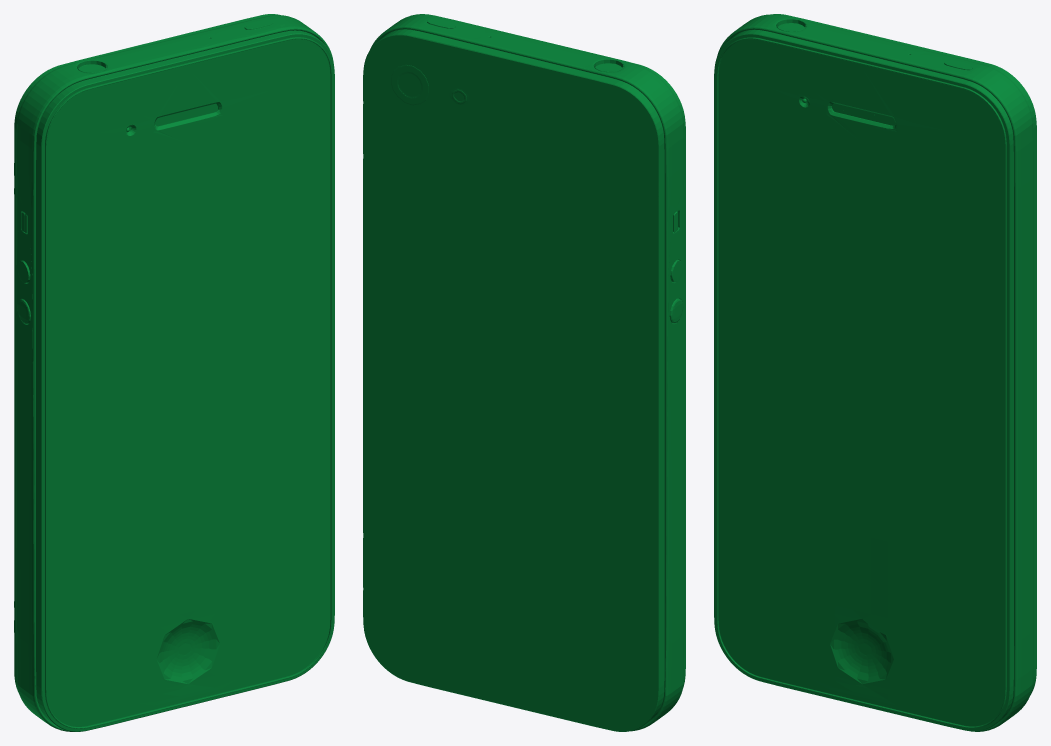
3 views of the same model, side by side, from view 1: azimuth 30°, elevation 25°; view 2: azimuth 150°, elevation 25°; view 3: azimuth 330°, elevation 25° (orthographic).
Visible parts, largest first — view 1: Rectangle01, frame; view 2: Rectangle01, frame; view 3: Rectangle01, frame.
Part boxes in pixels (x1,y1,x2,y2): Rectangle01: (14,14,334,731); frame: (16,15,333,731); Rectangle01: (363,19,685,731); frame: (370,14,684,731); Rectangle01: (714,14,1036,731); frame: (717,14,1033,731).
Bounding box in the file's own units: 25.19 × 52.09 × 4.22.
